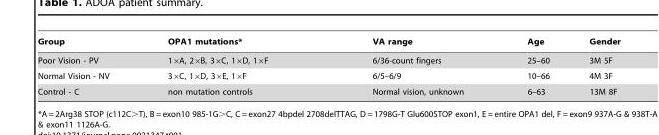table: (37, 36, 619, 95)
table column: (137, 36, 319, 95), (319, 36, 494, 95), (37, 36, 137, 95), (494, 36, 568, 95), (568, 36, 619, 95)
table column header: (37, 36, 619, 50)
table row: (37, 50, 619, 68), (37, 68, 619, 84), (37, 36, 619, 50), (37, 84, 619, 95)
